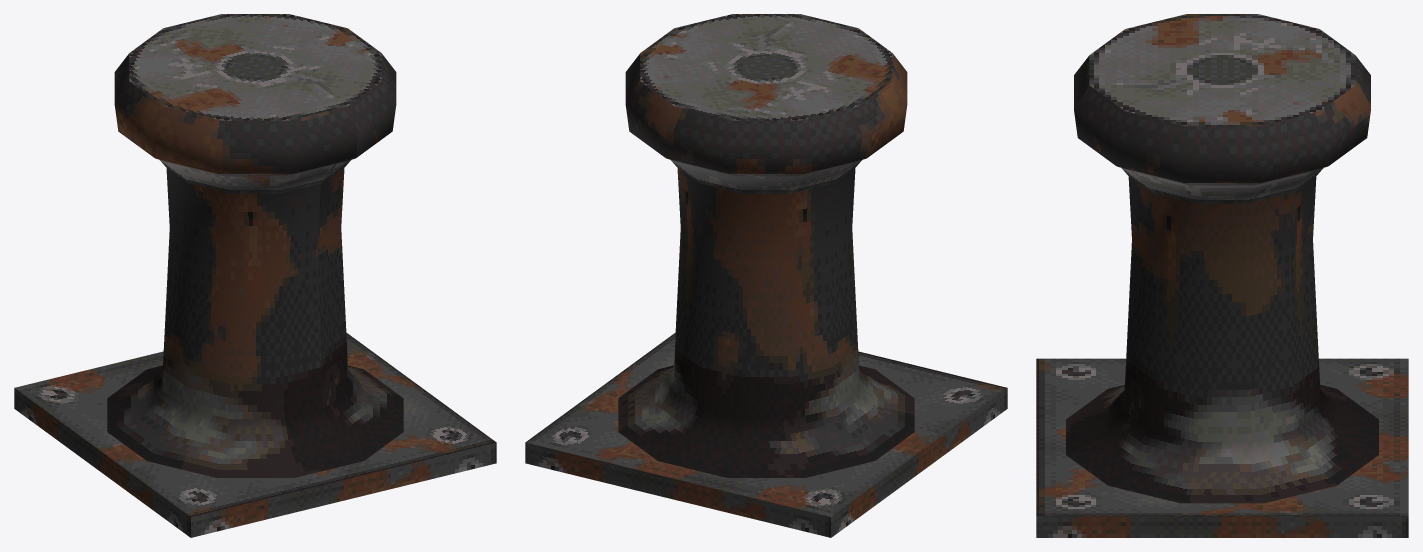
File: bollard_iron.glb
The picture shows the model from 3 angles, left to right: view 1: azimuth 30°, elevation 25°; view 2: azimuth 150°, elevation 25°; view 3: azimuth 270°, elevation 25°; orthographic projection. The views are drawn at different scales.
Parts seen in each view (by area): view 1: bollard_iron; view 2: bollard_iron; view 3: bollard_iron.
Boxes of the visible parts, left/top/right/bottom form: bollard_iron: left=14, top=14, right=496, bottom=537; bollard_iron: left=525, top=14, right=1007, bottom=537; bollard_iron: left=1036, top=14, right=1408, bottom=537.
Bounding box in the file's own units: 0.46 × 0.53 × 0.46.
1 material, 1 textured.
